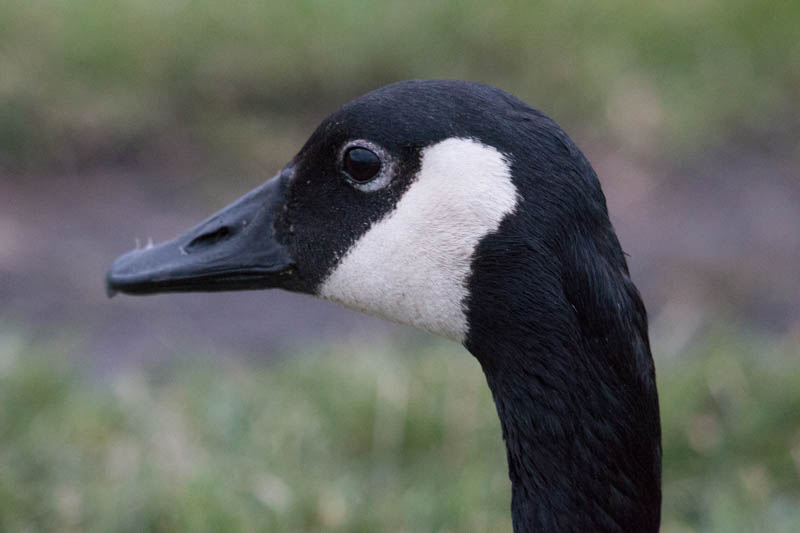goose-head: (104, 77, 617, 348)
